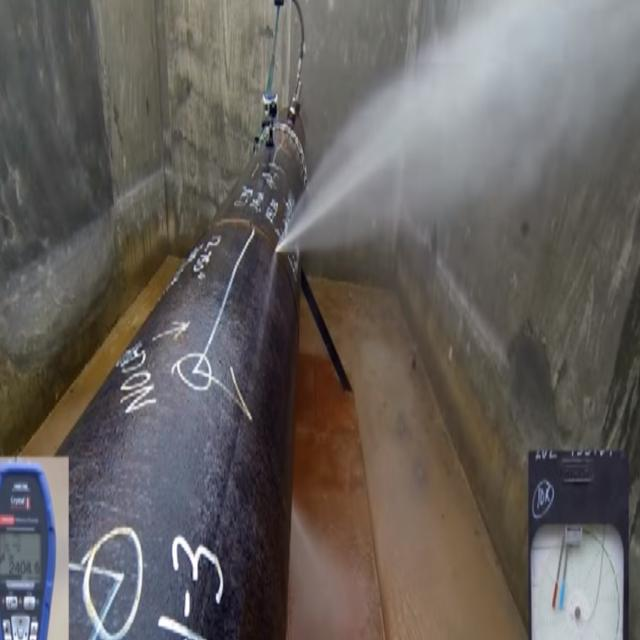leak: (281, 2, 640, 250)
